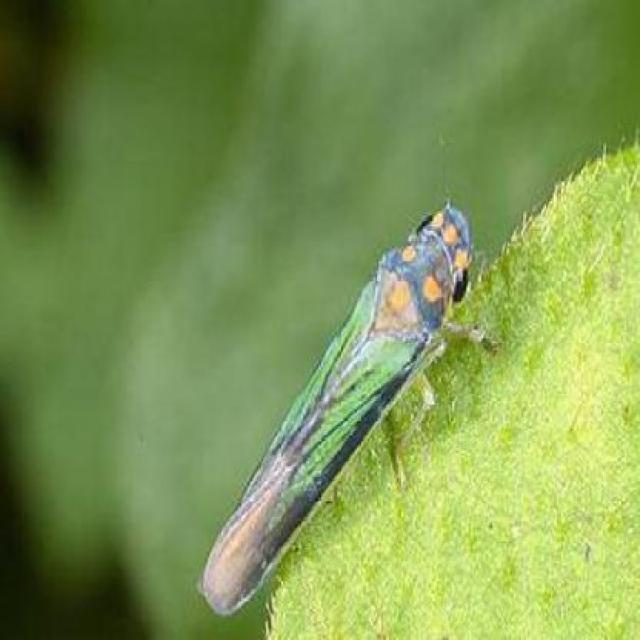green-leafhopper: (200, 199, 476, 616)
